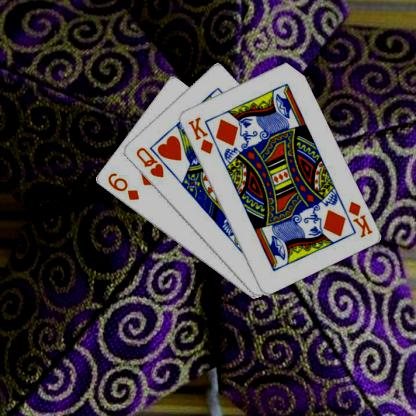6D: (105, 170, 140, 202)
KD: (185, 114, 214, 155), (346, 199, 374, 239)
QH: (133, 145, 165, 179)
